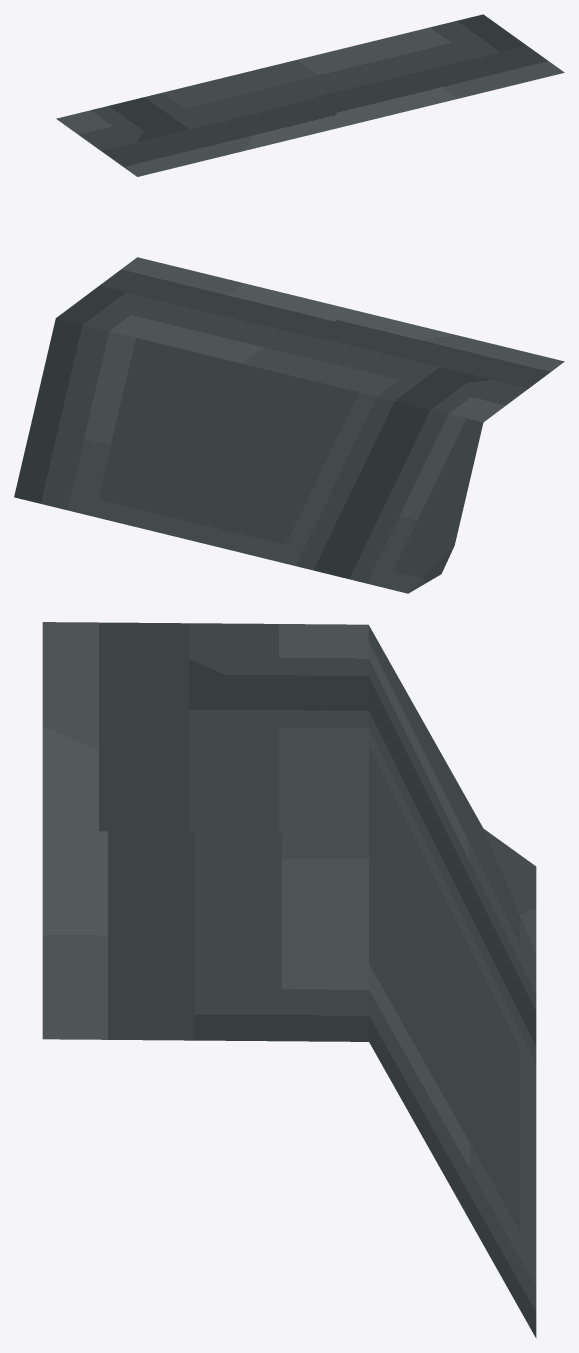
The picture shows the model from 3 angles, top to bottom: view 1: azimuth 30°, elevation 25°; view 2: azimuth 150°, elevation 25°; view 3: azimuth 270°, elevation 25°; orthographic projection. The views are drawn at different scales.
Bounding box in the file's own units: 1 × 0.3354 × 0.5.
2 materials, 2 textured.
